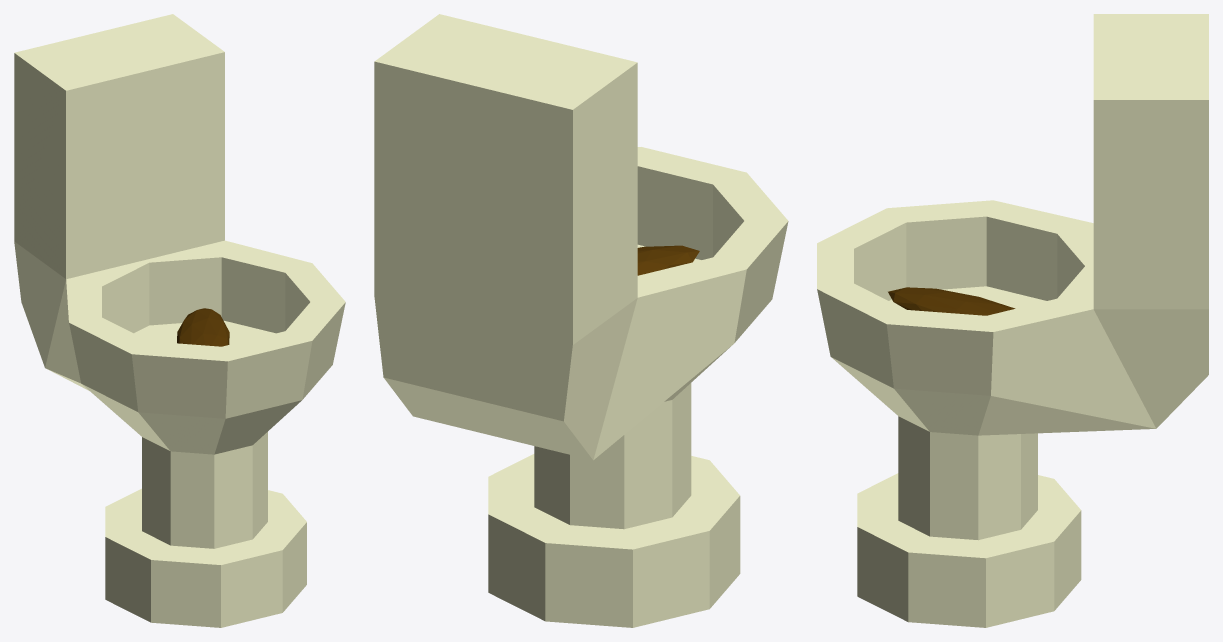
File: terlit.fbx
The picture shows the model from 3 angles, left to right: view 1: azimuth 30°, elevation 25°; view 2: azimuth 150°, elevation 25°; view 3: azimuth 270°, elevation 25°; orthographic projection. The views are drawn at different scales.
Parts seen in each view (by area): view 1: Cylinder, Icosphere; view 2: Cylinder, Icosphere; view 3: Cylinder, Icosphere.
Boxes of the visible parts, x1=… form: Cylinder: x1=14, y1=14, x2=345, y2=627; Icosphere: x1=177, y1=308, x2=229, y2=346; Cylinder: x1=374, y1=14, x2=788, y2=627; Icosphere: x1=637, y1=245, x2=699, y2=275; Cylinder: x1=817, y1=14, x2=1208, y2=627; Icosphere: x1=888, y1=287, x2=1015, y2=315.
Bounding box in the file's own units: 406 × 750 × 509.
